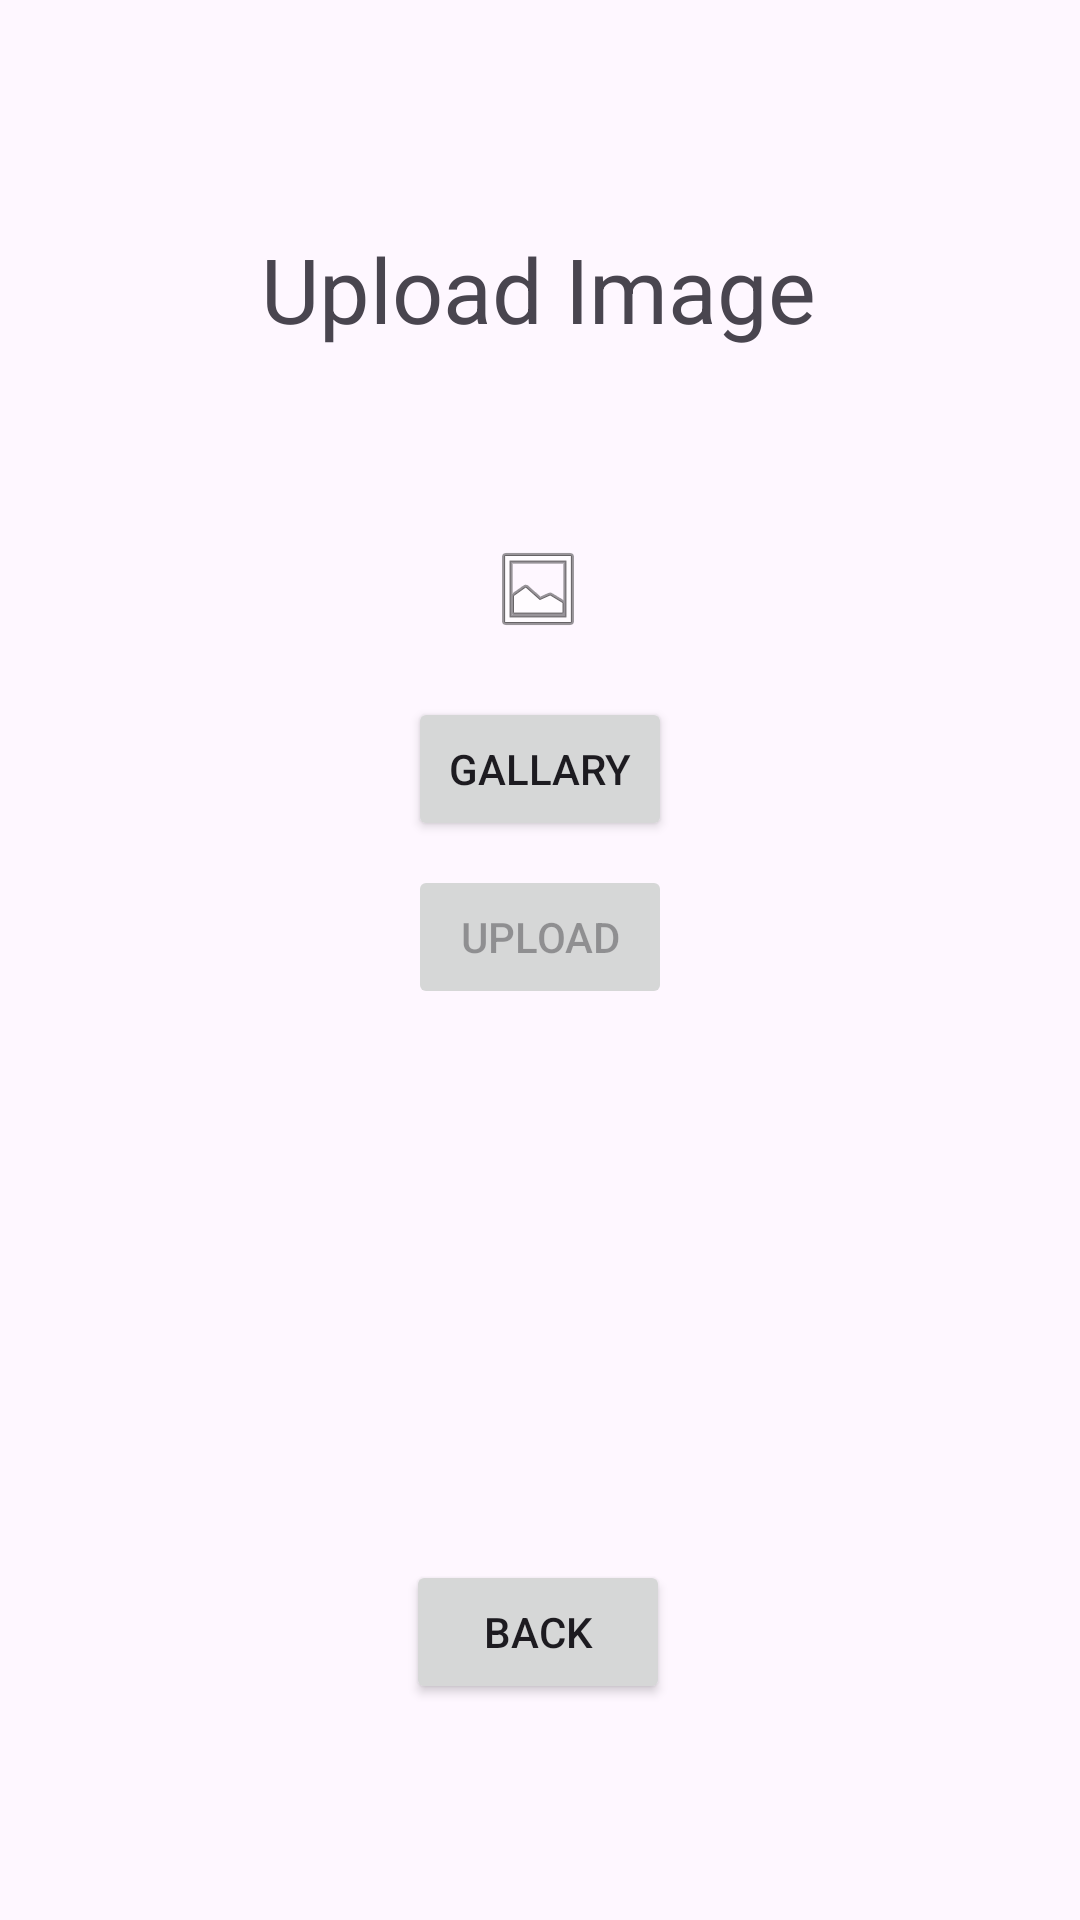

Named icons in this screenshot (1080w x 1920h) and their centers, (x,y):
gallery: (538,589)
